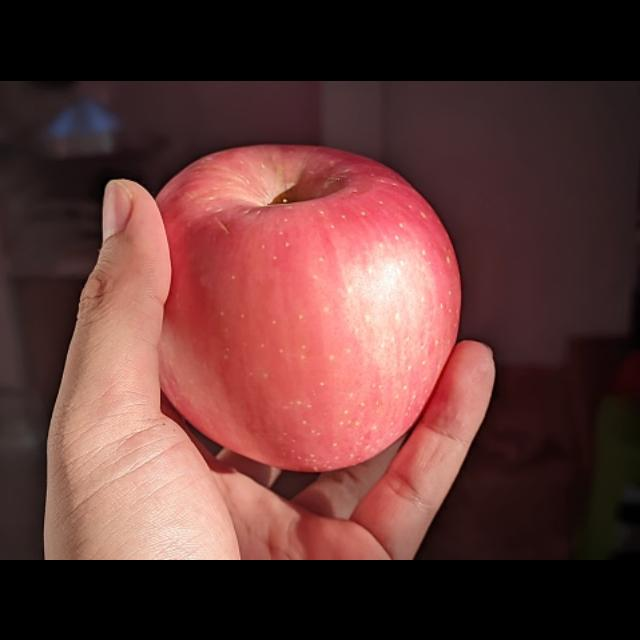Apel Segar: (110, 124, 490, 492)
